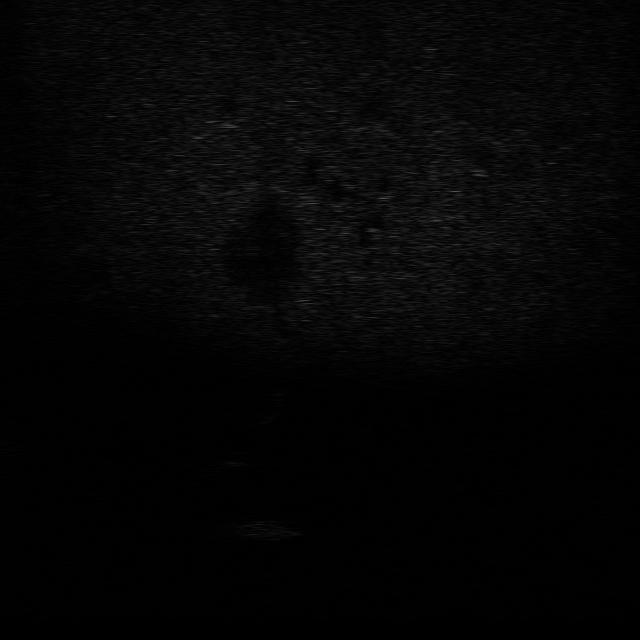ball: (216, 446, 256, 469)
circle cage: (231, 514, 305, 543)
human body: (246, 374, 295, 429)
